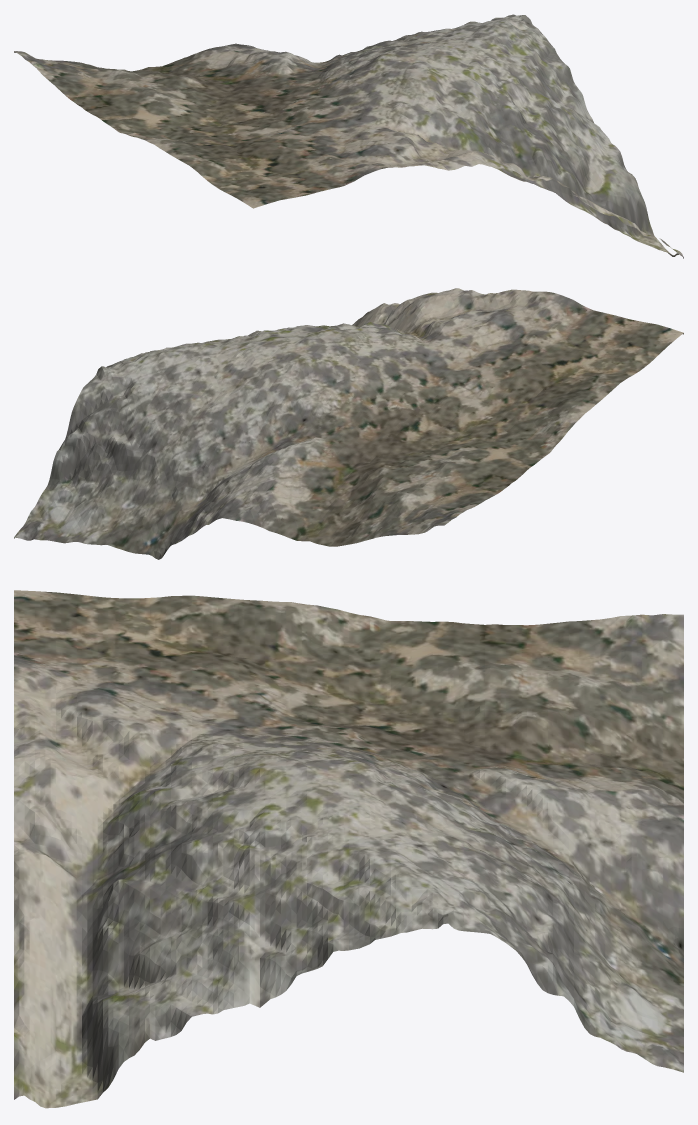
3 views of the same model, one above another, from view 1: azimuth 30°, elevation 25°; view 2: azimuth 150°, elevation 25°; view 3: azimuth 270°, elevation 25° (orthographic). The views are drawn at different scales.
Bounding box in the file's own units: 250 × 94.3 × 241.
1 material, 1 textured.
